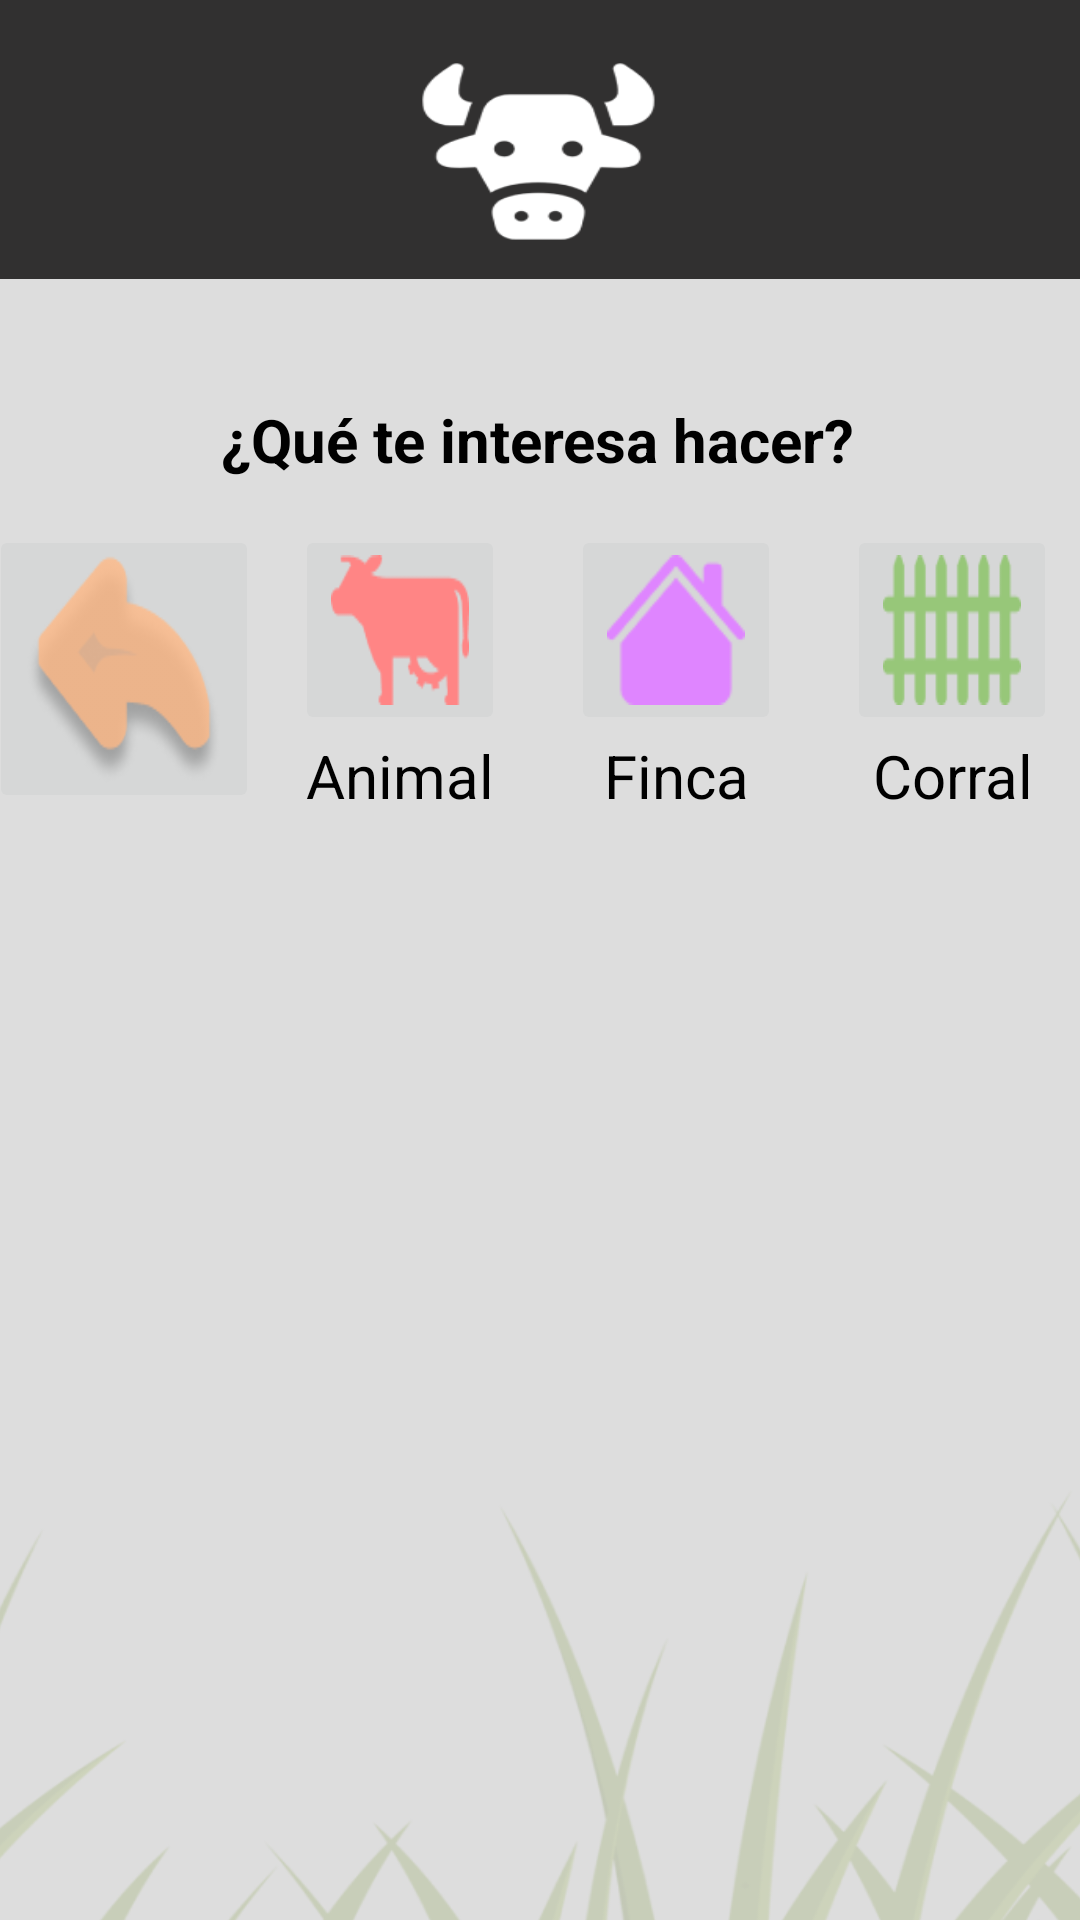

Screen size 1080px×1920px. Icon name, then its center in pixels as point (x, y):
atras naranja: point (124, 663)
corrarlpng: point (952, 630)
cow: point (400, 630)
